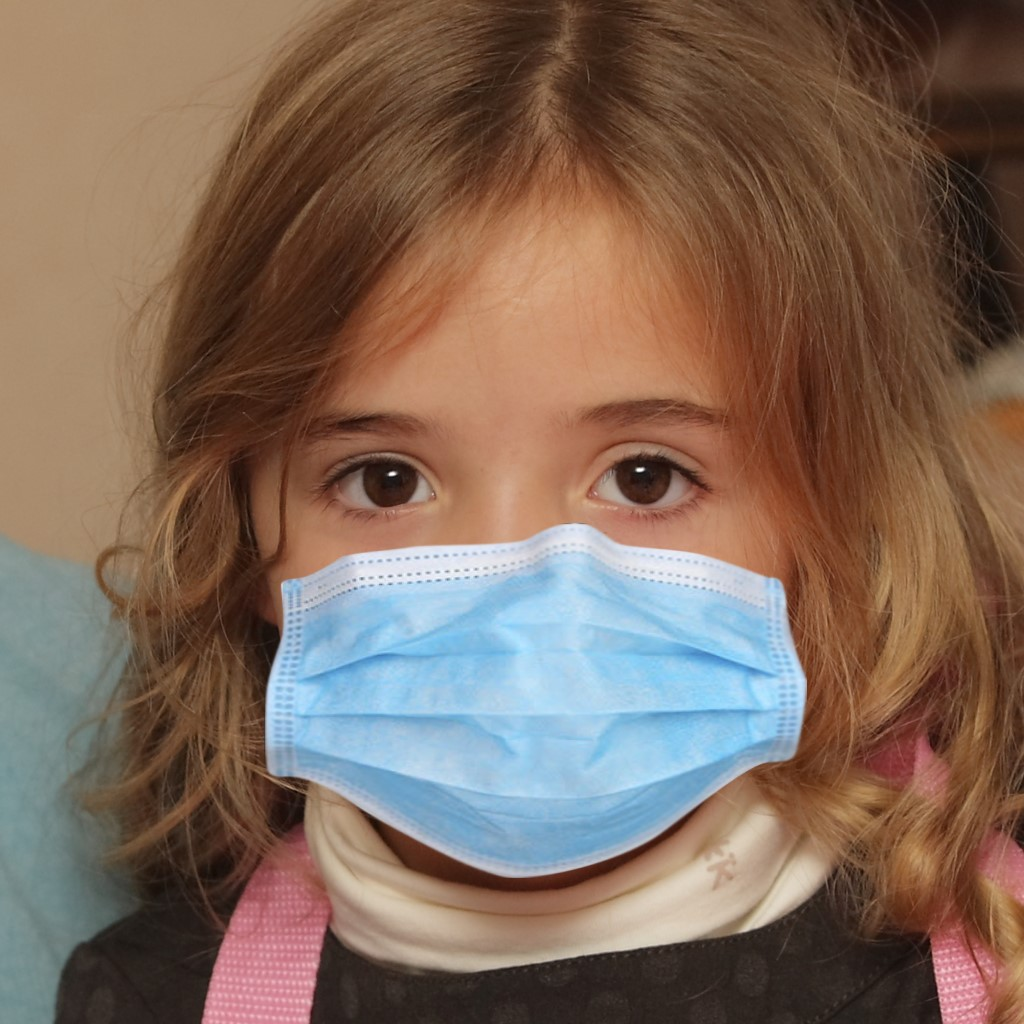con_mascara: (202, 61, 841, 893)
